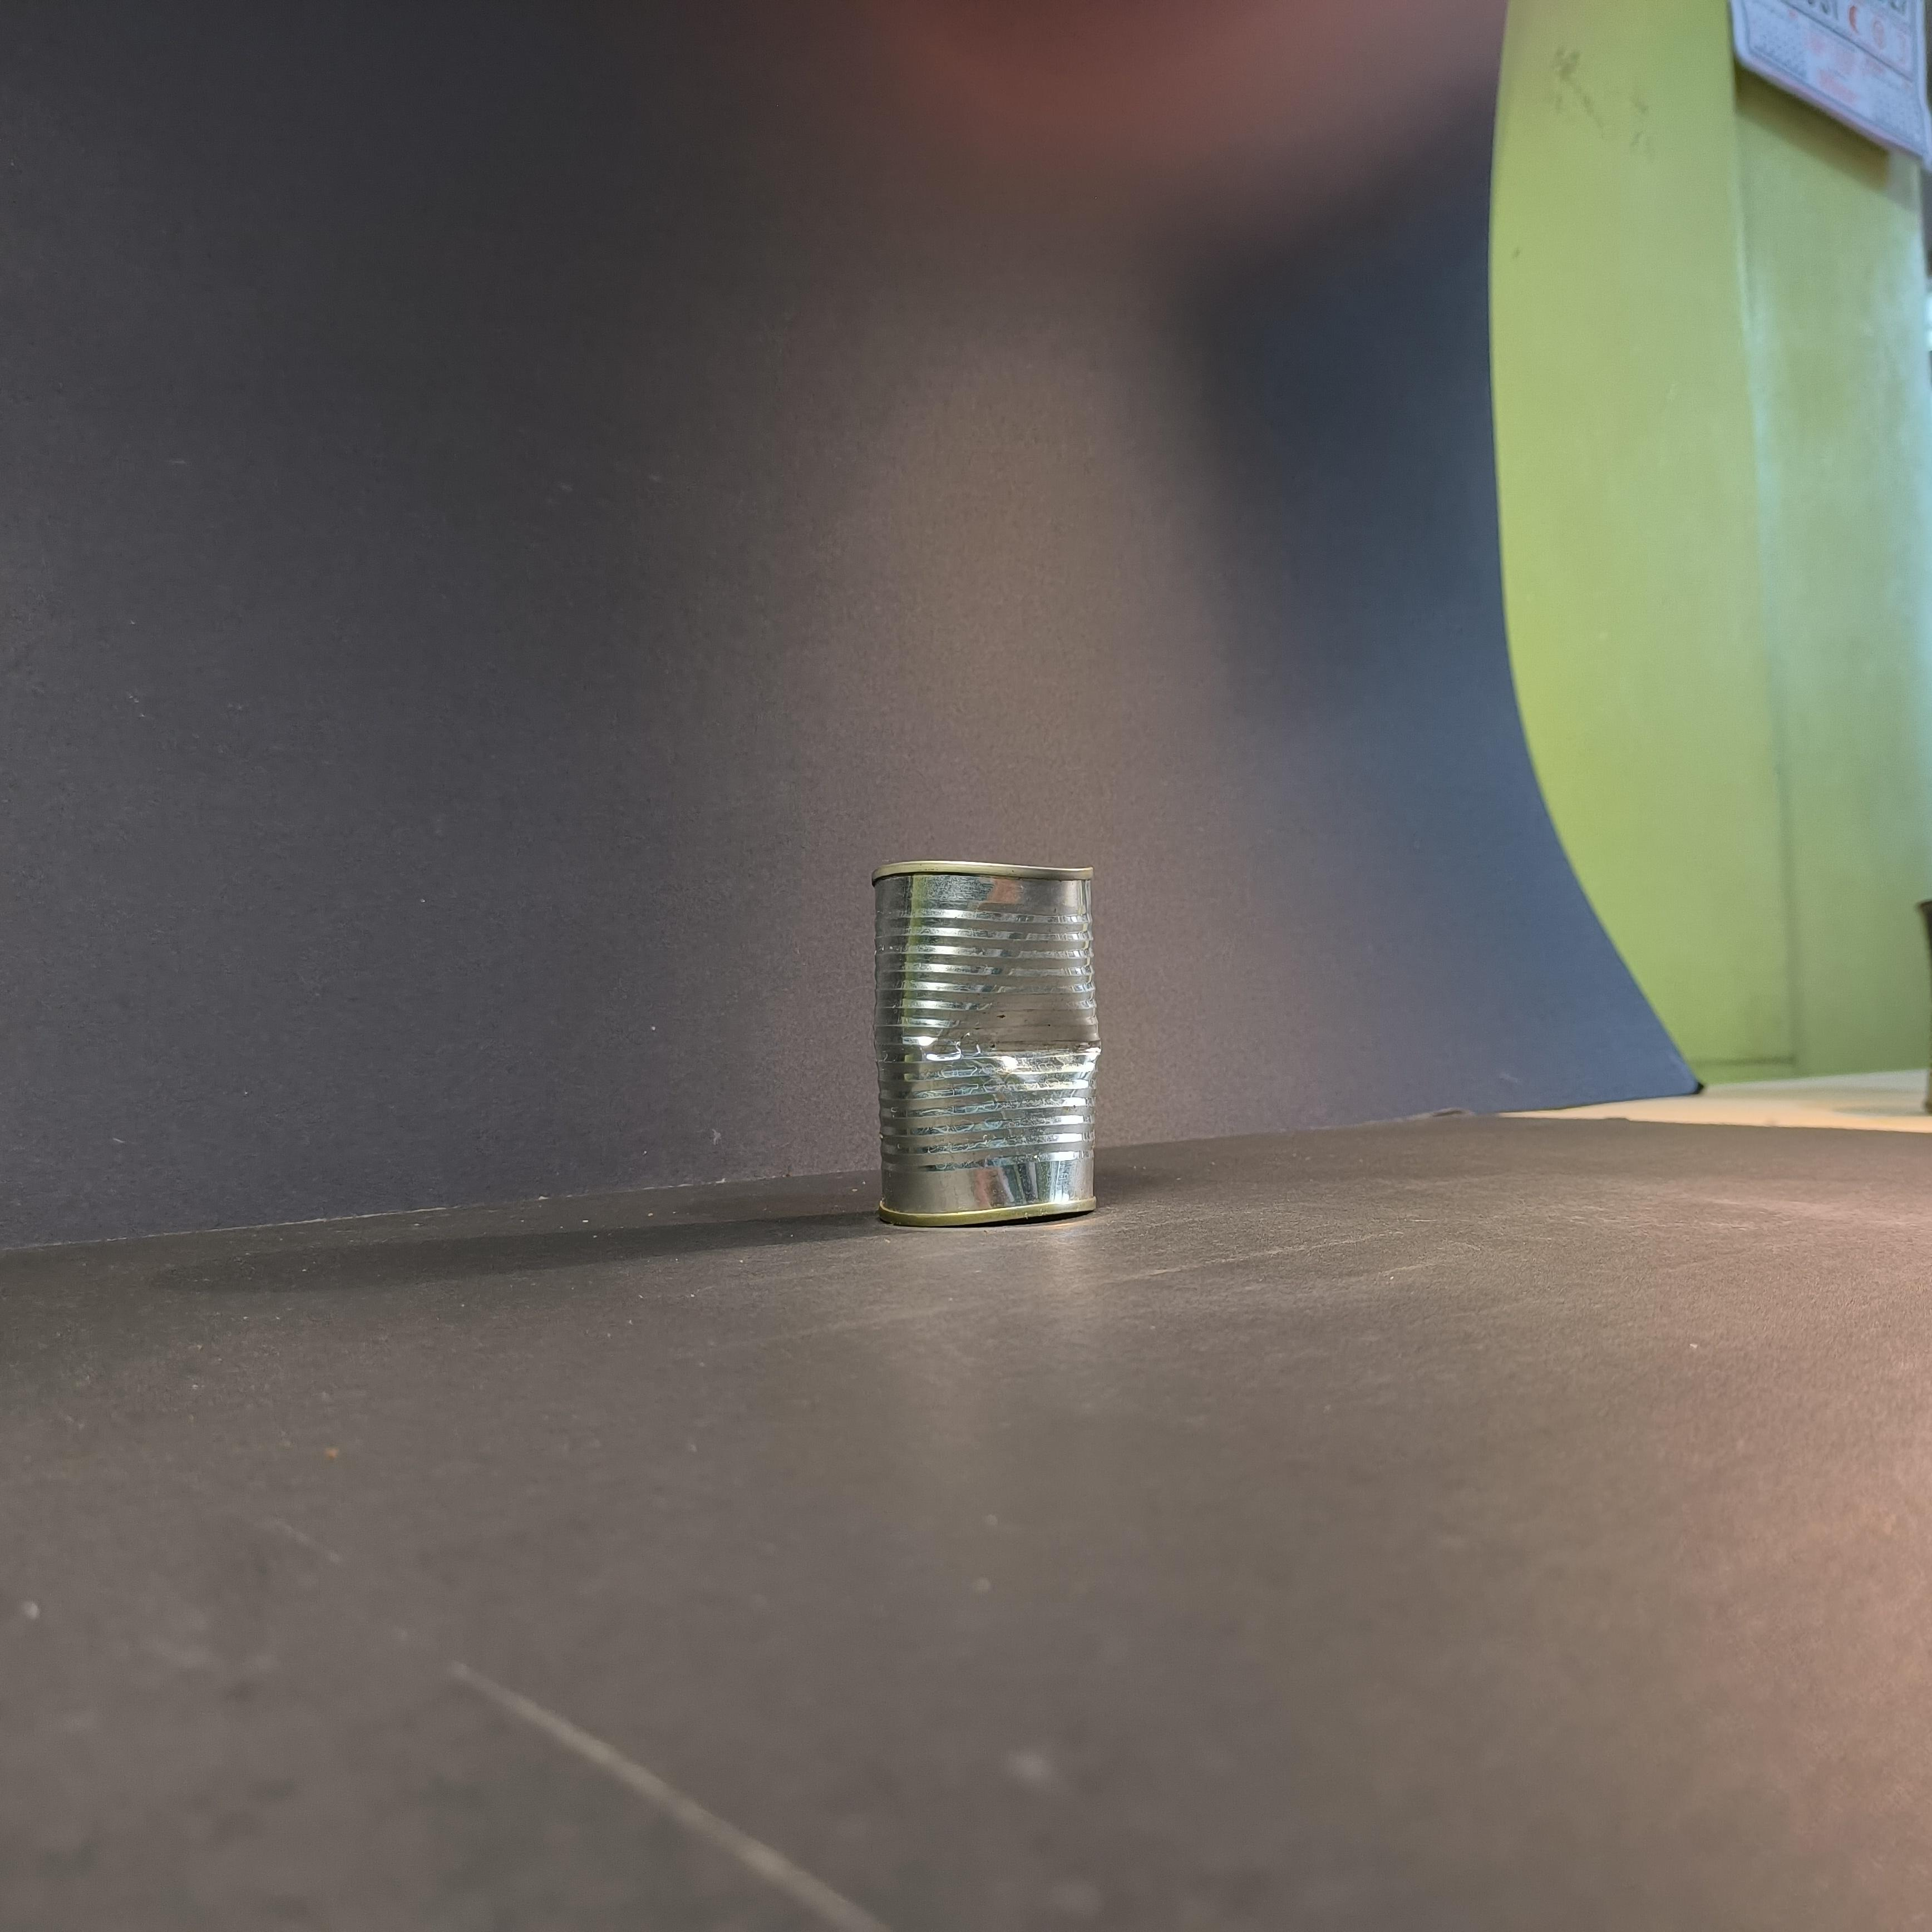Dented: (851, 826, 1132, 1253)
